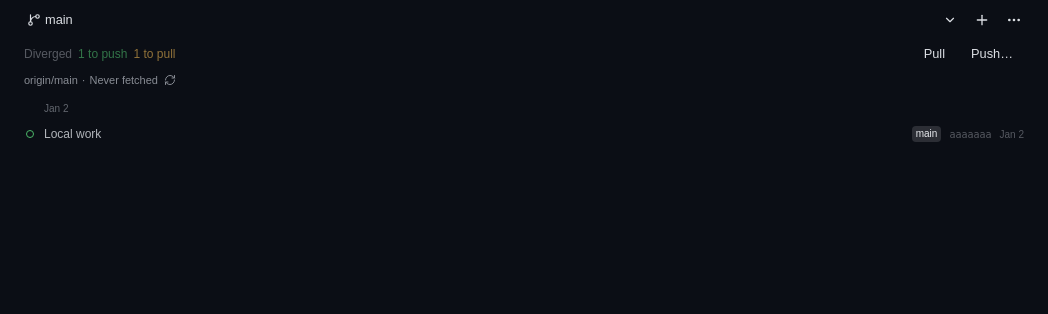
Test case: successful push refreshes sync markers when head and upstream name stay unchanged
This screenshot has width=1048, height=314.
Expected: the text "Local work" is shown, [44,127,101,141]
Expected: the element titled "Not on upstream yet" is shown, [26,130,34,138]
Click the button "Push…": point(992, 54) [960,40,1024,68]
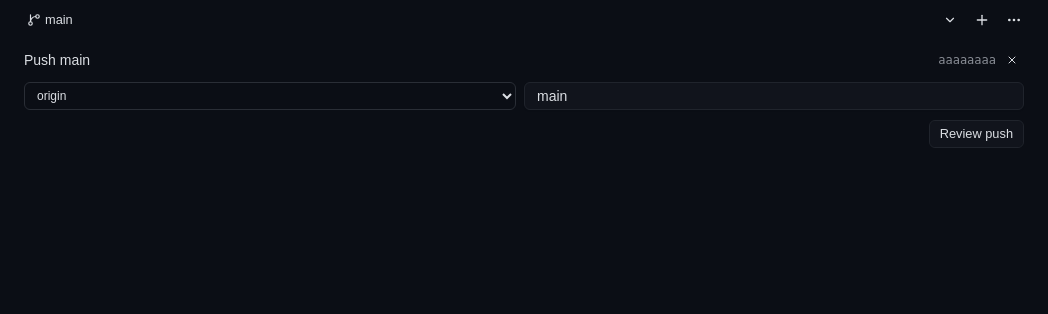
Click the button "Review push": point(976, 134) [929,120,1024,148]
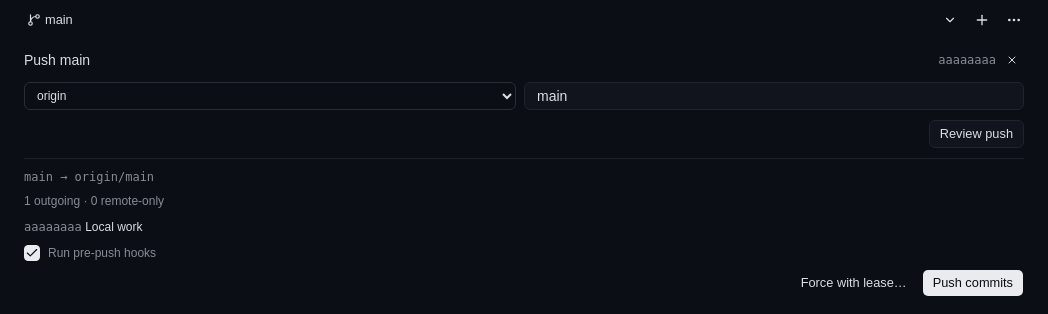
Click the button "Push commits": point(973, 283) [922,269,1024,297]
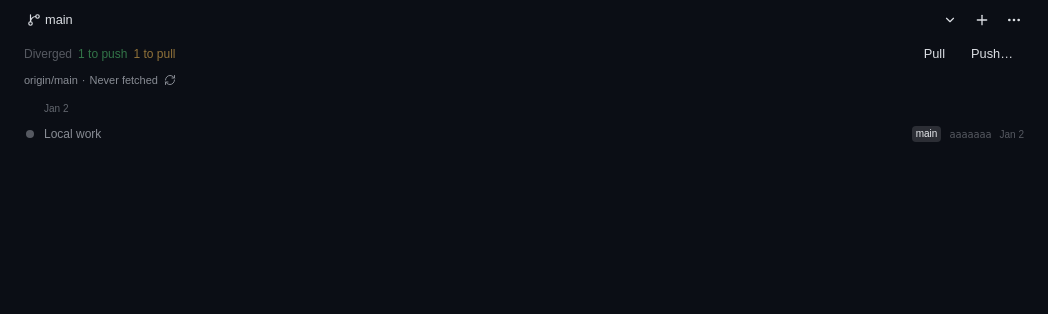
Expected: the text "Local work" is shown, [44,127,101,141]
Expected: the button "Push…" is shown, [960,40,1024,68]
